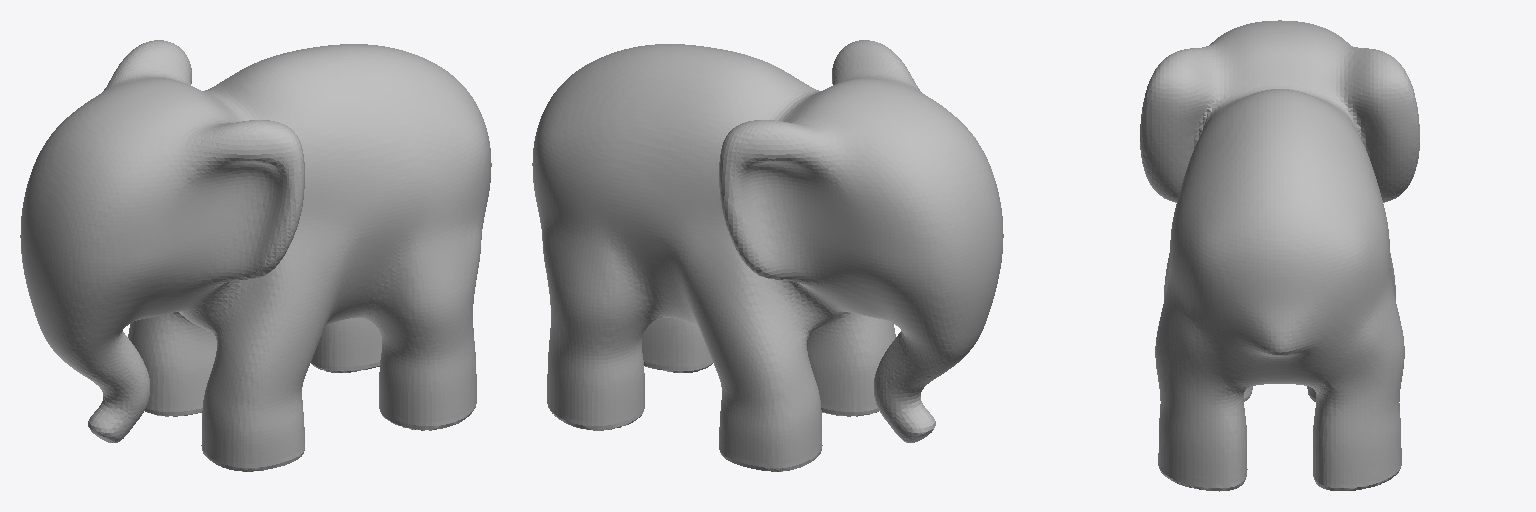
The robot description file, URDF, robot "root":
<robot name="root">
  <link name="link_001">
    <visual>
      <origin xyz="0 0 0" rpy="0 0 0"/>
      <geometry>
        <!--mesh filename="elephant.obj" scale="1.2500E+00 1.2500E+00 1.2500E+00"-->
        <!--mesh filename="elephant_primitive.obj" scale="1.2500E+00 1.2500E+00 1.2500E+00"-->
        <mesh filename="elephant.obj" scale="1.2500E+00 1.2500E+00 1.2500E+00"/>
      </geometry>
      <material name="">
        <color rgba="7.50E-01 7.50E-01 7.50E-01 1"/>
      </material>
    </visual>
    <collision>
      <origin xyz="0 0 0" rpy="0 0 0"/>
      <geometry>
        <!--mesh filename="elephant.obj" scale="1.2500E+00 1.2500E+00 1.2500E+00"-->
        <!--mesh filename="elephant_primitive.obj" scale="1.2500E+00 1.2500E+00 1.2500E+00"-->
        <mesh filename="elephant.obj" scale="1.2500E+00 1.2500E+00 1.2500E+00"/>
      </geometry>
    </collision>
      <inertial>
    <mass value="0.16"/> <!-- 质量：0.1kg -->
  </inertial>
  </link>
</robot>

--- What the picture shows (computed from the rendered views, not written in the file) ---
3 views of the same robot in one strip: view 1: azimuth 30°, elevation 25°; view 2: azimuth 150°, elevation 25°; view 3: azimuth 270°, elevation 25° (orthographic).
Robot: root — 1 links, 0 joints (none); root link link_001; default pose: all joints at 0.
Links seen in each view (by area): view 1: link_001; view 2: link_001; view 3: link_001.
Boxes of the visible links, x1=… form: link_001: x1=20, y1=40, x2=491, y2=471; link_001: x1=532, y1=40, x2=1003, y2=471; link_001: x1=1140, y1=20, x2=1419, y2=491.
Bounding box of the posed robot: 0.1696 × 0.0955 × 0.125 m (x, y, z).
1 mesh visuals loaded from 1 distinct referenced files (1 OBJ).
